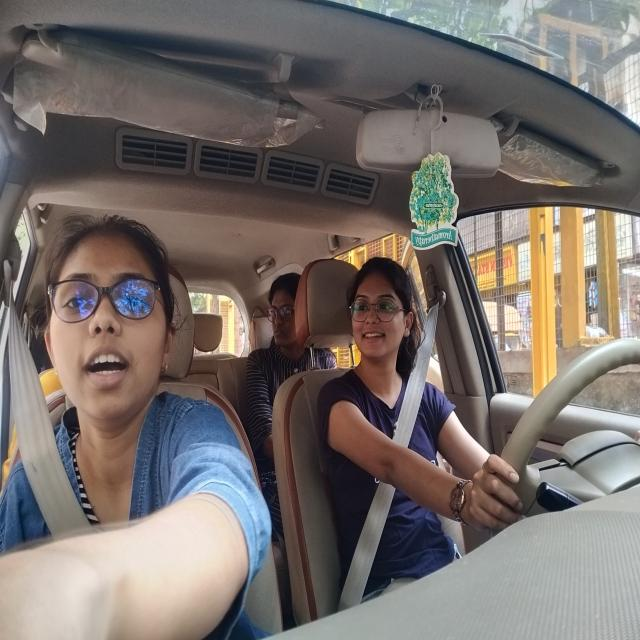LeftRight: (348, 251, 420, 378)
person: (49, 223, 174, 432), (266, 260, 303, 364)
talking: (81, 348, 136, 388), (358, 326, 391, 348)
